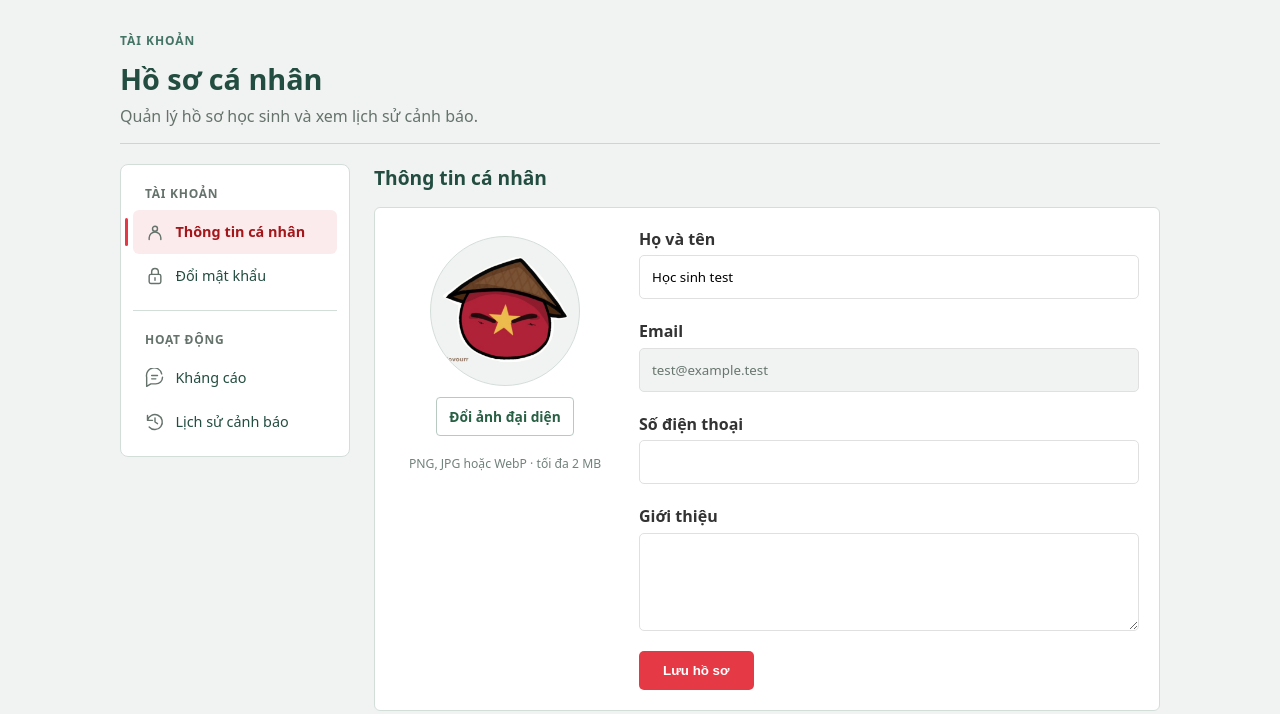
password API errors remain visible and profile saving still works independently
Click the button "Đổi mật khẩu": (235, 276) [133,254,337,298]
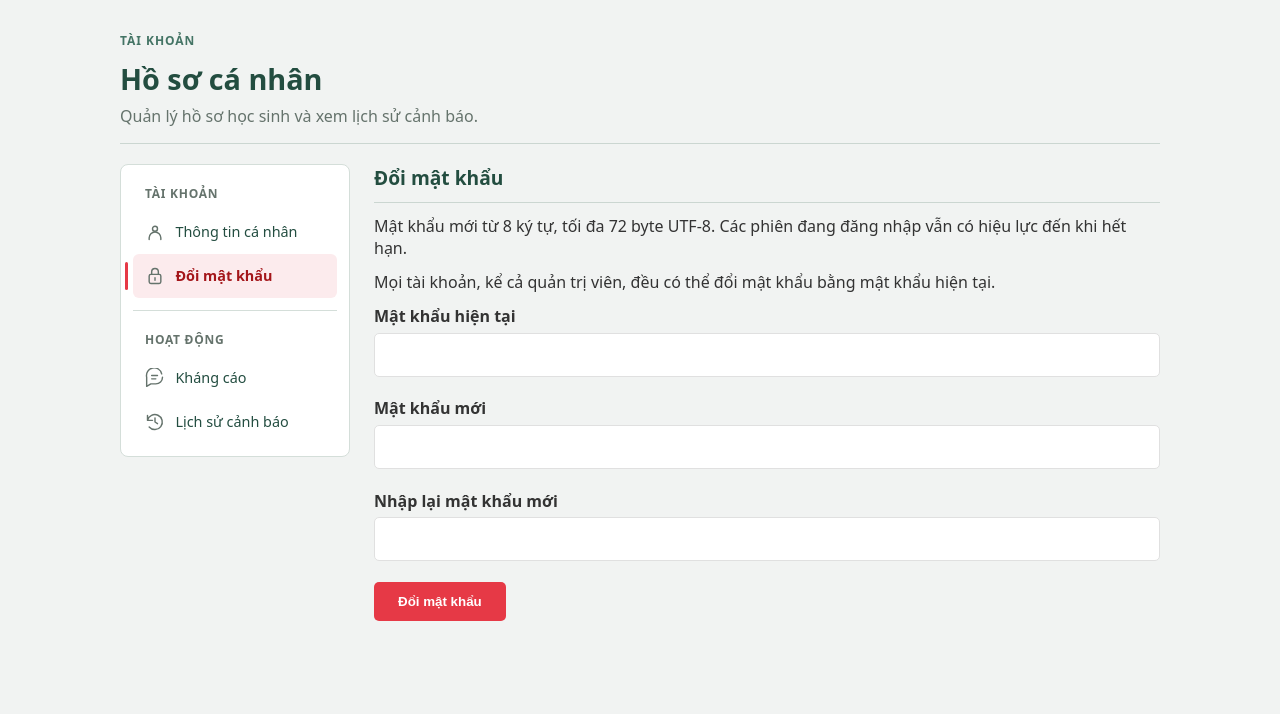
In the password field named "currentPassword": (767, 355) [374,333,1160,377], type "Old-password!"
In the password field named "newPassword": (767, 447) [374,425,1160,469], type "New-password!"
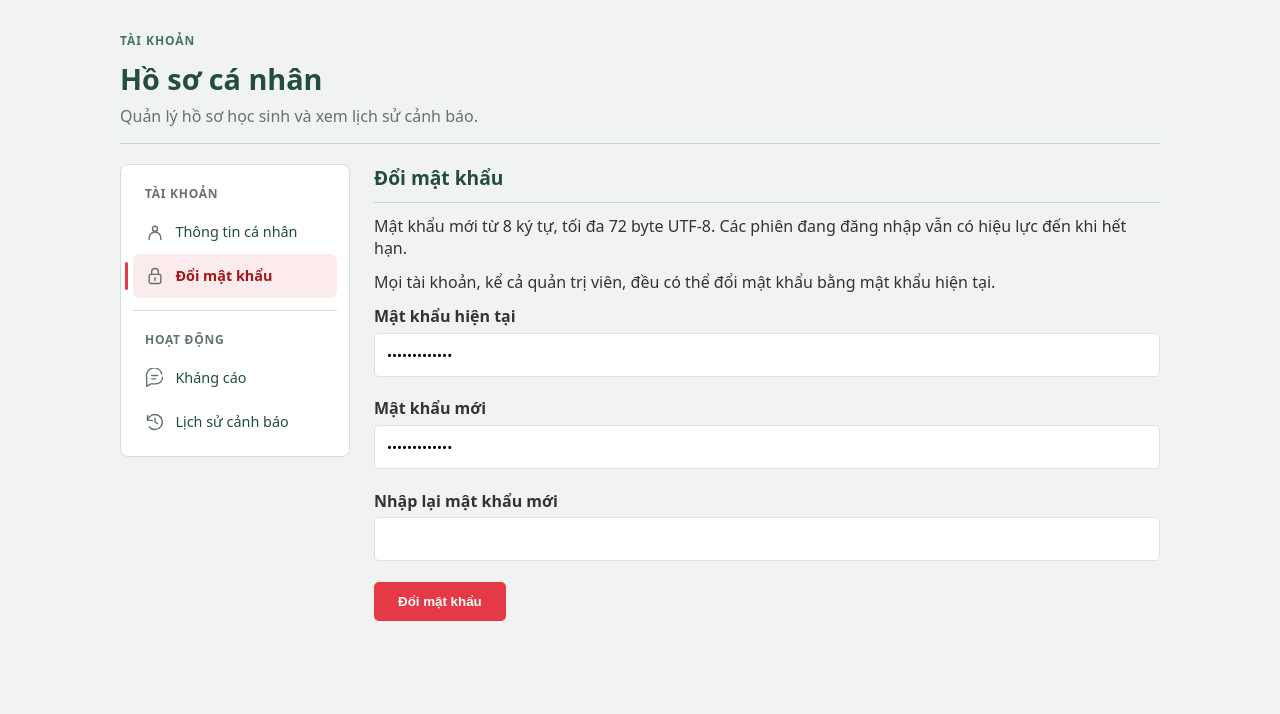
In the password field labelled "Nhập lại mật khẩu mới": (767, 539) [374,517,1160,561], type "New-password!"
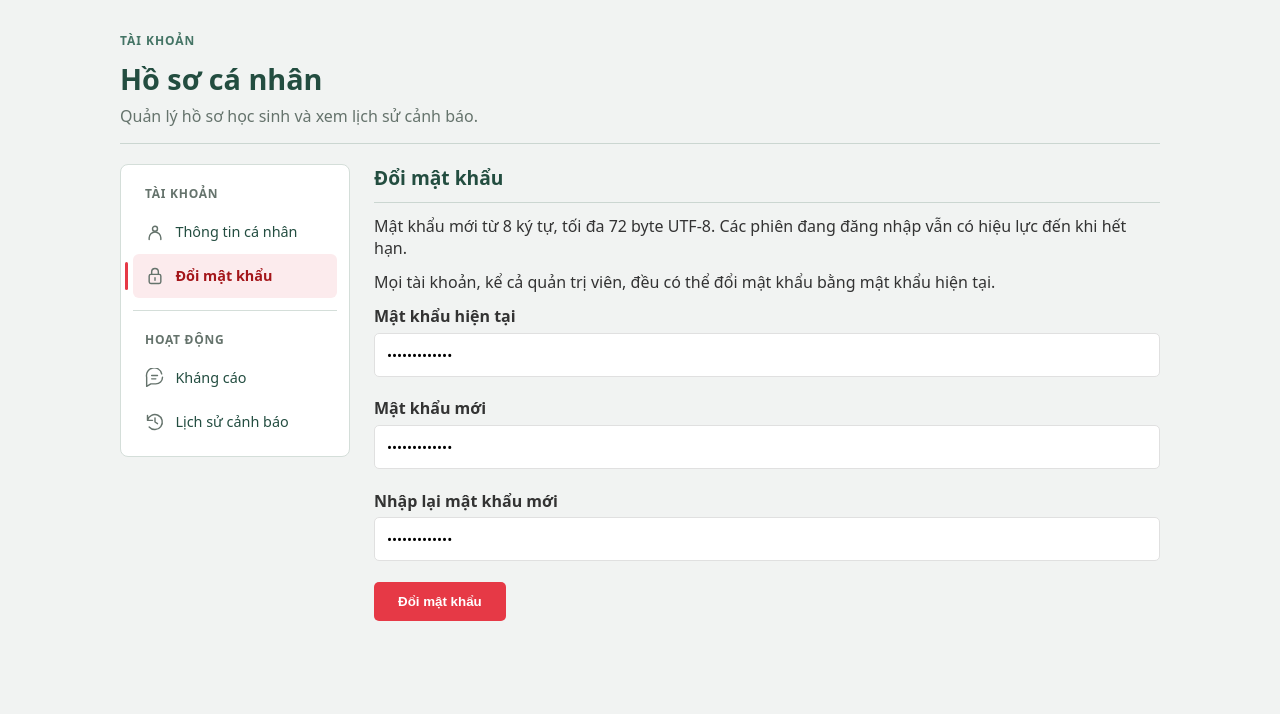
Submit the form named "Đổi mật khẩu", box [374,305,1160,621]
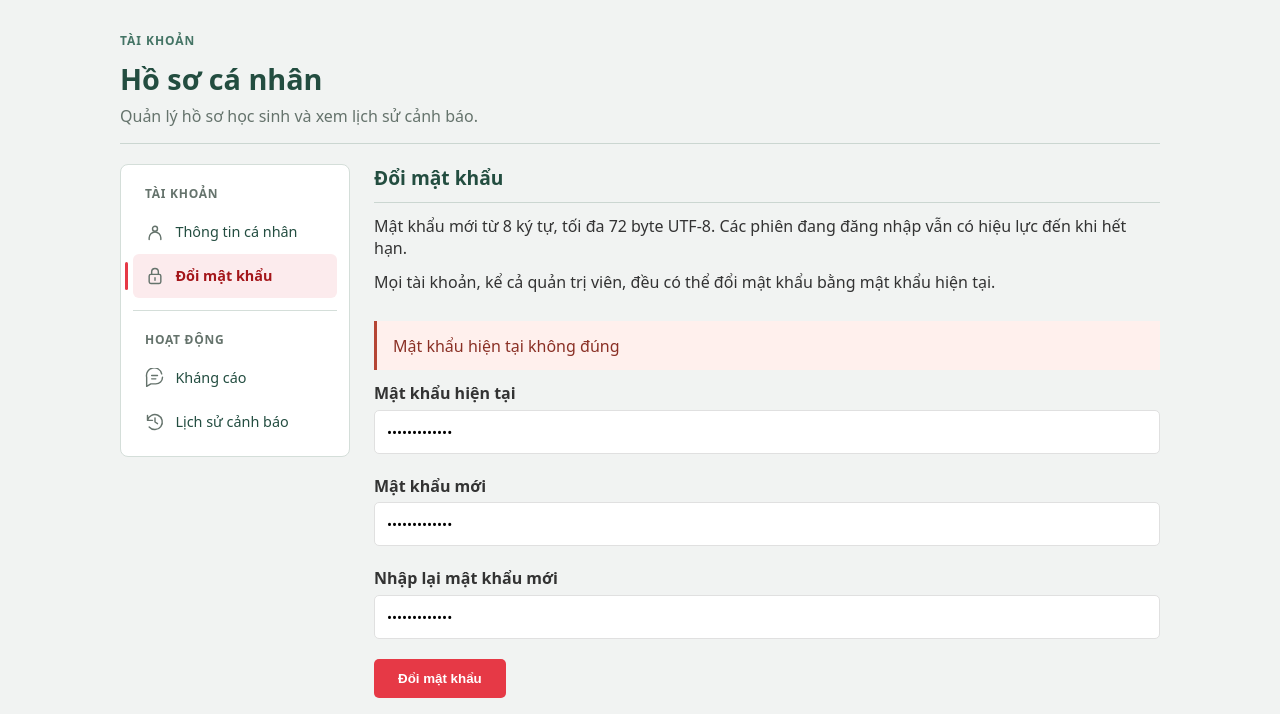
Expected: the button "Đổi mật khẩu" below "Nhập lại mật khẩu mới" is enabled, [374,659,506,698]
Expected: the message "Mật khẩu hiện tại không đúng" is shown, [374,321,1160,370]
Click the button "Thông tin cá nhân": (235, 232) [133,210,337,254]
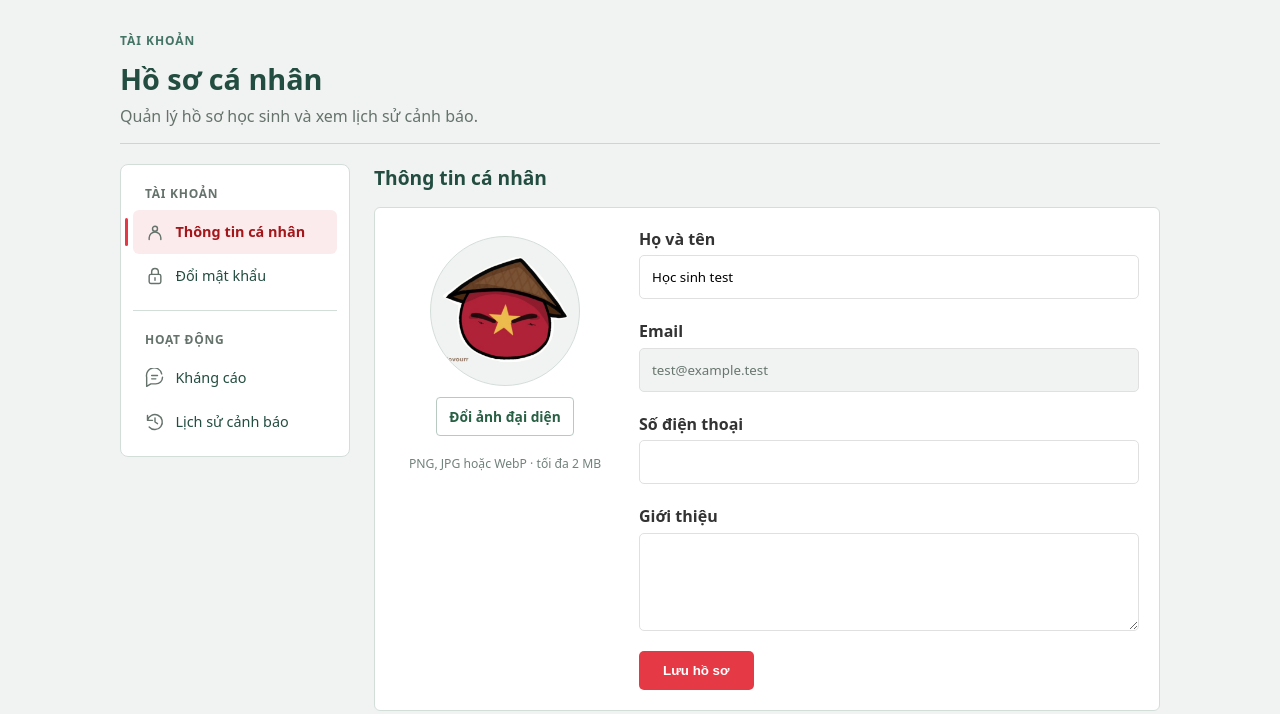
Submit the form, box [639,228,1139,690]
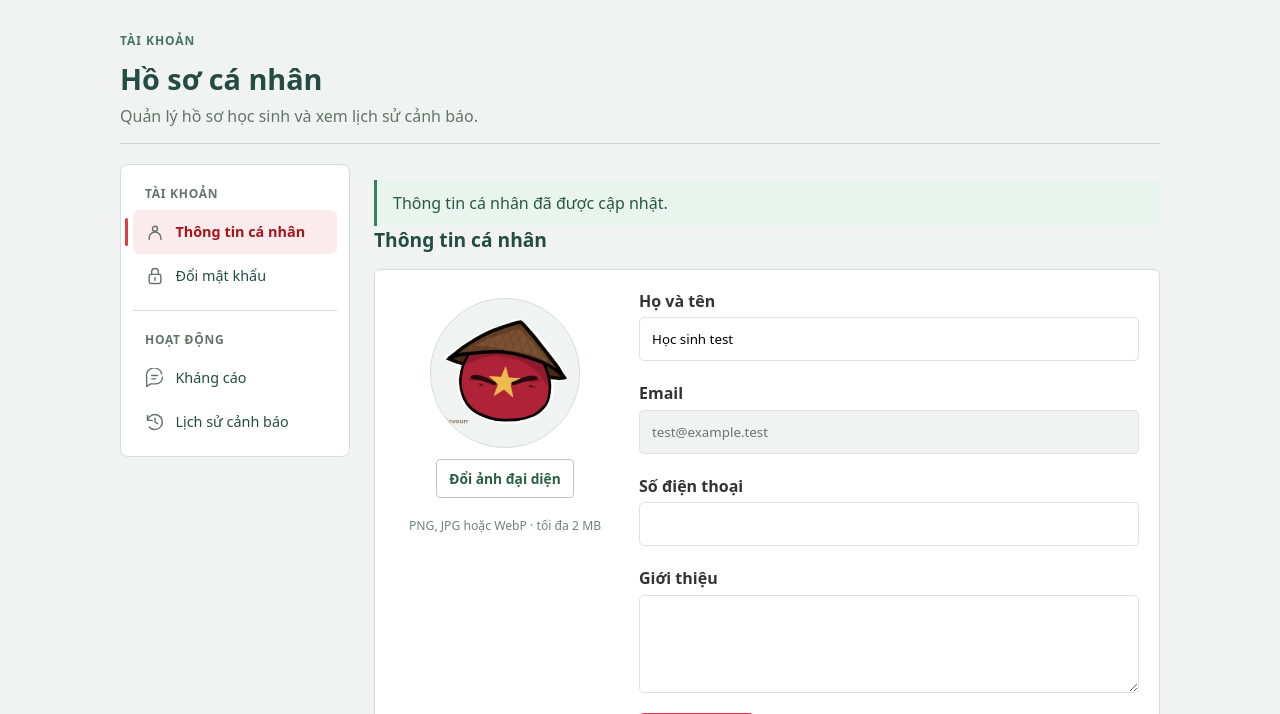
Expected: the text "Thông tin cá nhân đã được cập nhật." is shown, [374,180,1160,226]
